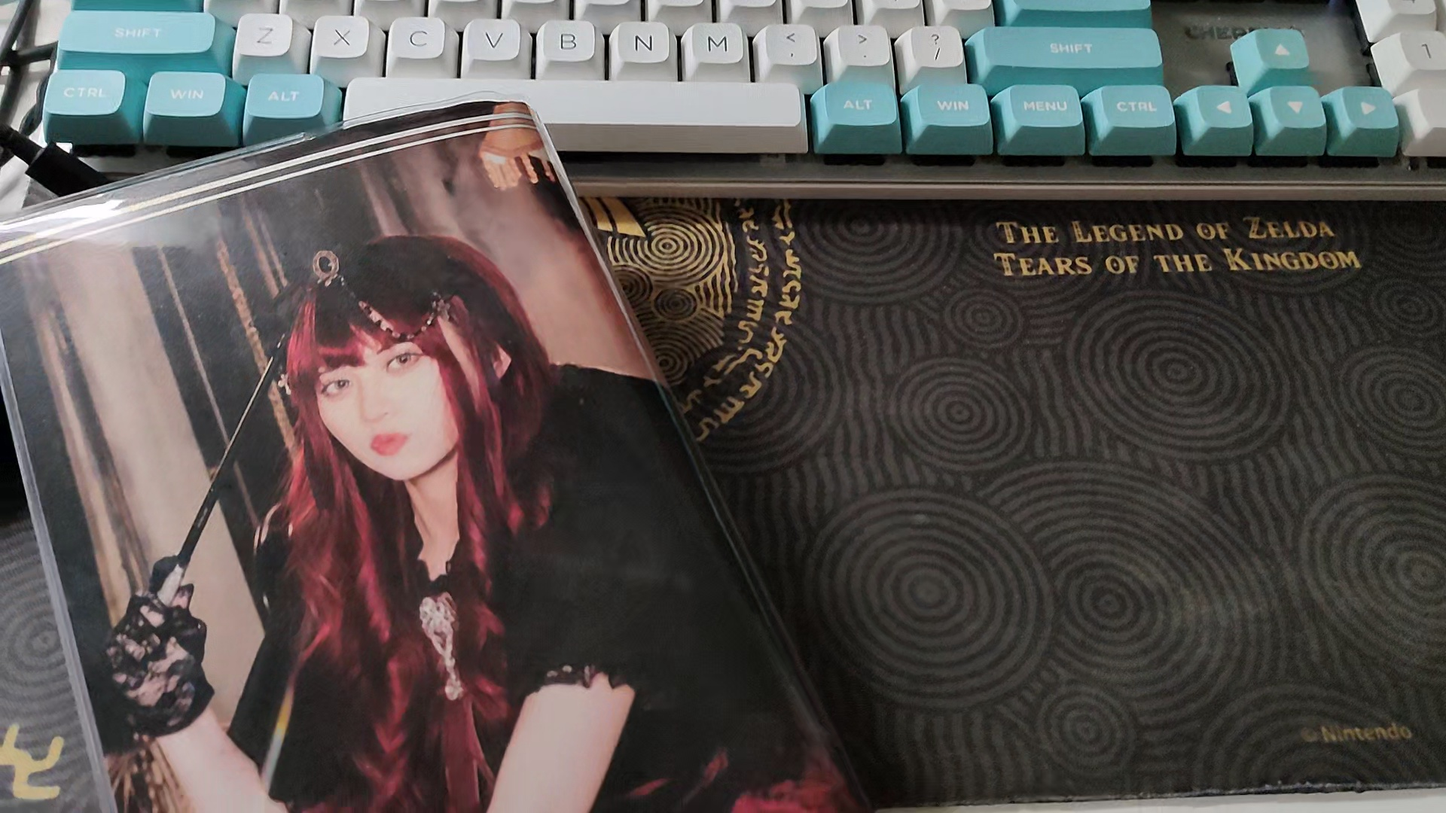Photo_book: (0, 92, 870, 813)
